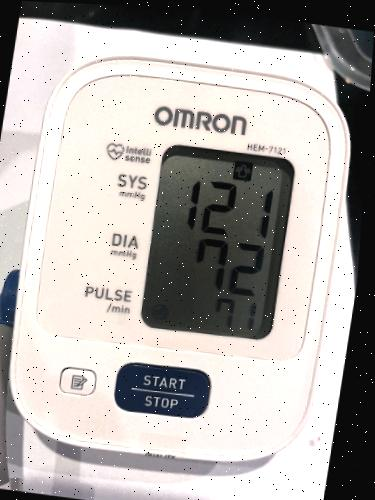bpm: (135, 136, 299, 348)
